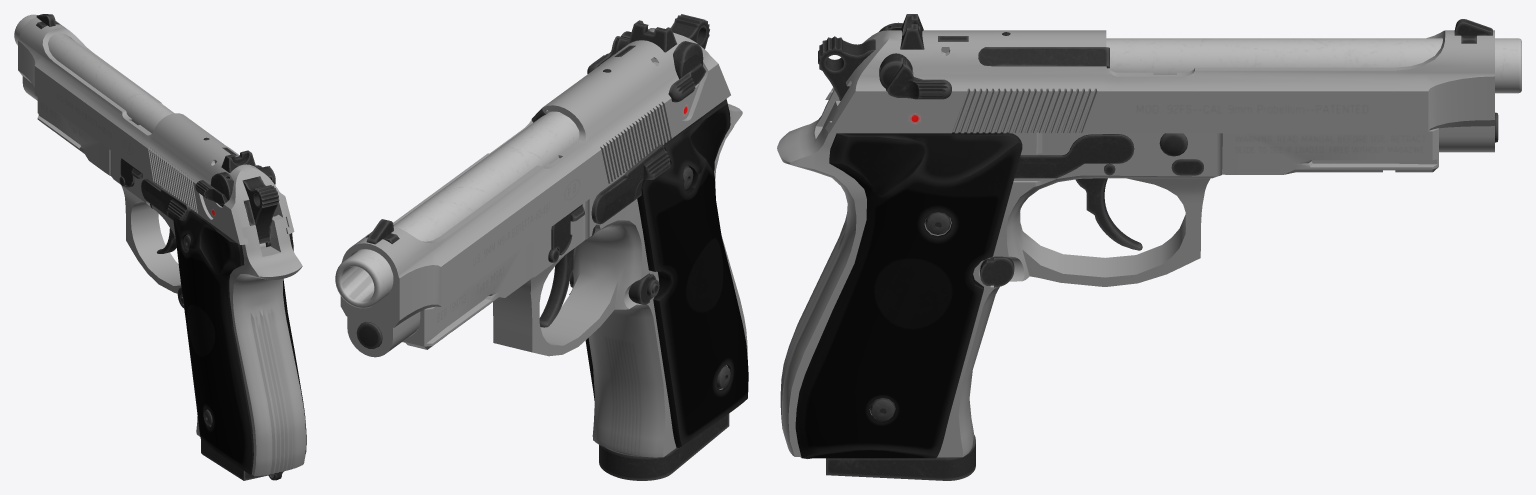
3 views of the same model, side by side, from view 1: azimuth 30°, elevation 25°; view 2: azimuth 150°, elevation 25°; view 3: azimuth 270°, elevation 25° (orthographic). The views are drawn at different scales.
Parts seen in each view (by area): view 1: body.003, receiver.003, Circle.008, Cylinder.054, Hammer.003, Cube.035, Cylinder.058, Magazine.001, Cube.031, Circle.007, Cube.036; view 2: receiver.003, body.003, Circle.008, Cylinder.054, Magazine.001, Cube.035, Cylinder.058, Plane.003, Hammer.003, Cube.031, Cube.036, Cylinder.055 (+2 smaller); view 3: receiver.003, Circle.007, body.003, Cylinder.054, Magazine.001, Cube.039, Cube.033, Hammer.003, Plane.003, Cylinder.059, Cylinder.067.
Boxes of the visible parts, x1,y1,x2,y2 form: body.003: [37, 97, 305, 476]; receiver.003: [18, 17, 294, 244]; Circle.008: [173, 210, 253, 474]; Cylinder.054: [14, 14, 173, 133]; Hammer.003: [242, 177, 279, 248]; Cube.035: [141, 178, 190, 220]; Cylinder.058: [195, 172, 233, 206]; Magazine.001: [201, 440, 292, 480]; Cube.031: [221, 150, 255, 172]; Circle.007: [283, 233, 306, 453]; Cube.036: [120, 158, 142, 187]; receiver.003: [340, 28, 730, 357]; body.003: [402, 104, 747, 457]; Circle.008: [637, 99, 748, 447]; Cylinder.054: [335, 111, 579, 308]; Magazine.001: [599, 413, 729, 480]; Cube.035: [591, 144, 670, 224]; Cylinder.058: [668, 41, 706, 102]; Plane.003: [539, 248, 574, 327]; Hammer.003: [671, 14, 709, 49]; Cube.031: [628, 20, 676, 52]; Cube.036: [551, 204, 584, 255]; Cylinder.055: [356, 321, 382, 348]; receiver.003: [825, 30, 1494, 152]; Circle.007: [795, 132, 1022, 458]; body.003: [777, 89, 1438, 457]; Cylinder.054: [1106, 38, 1521, 93]; Magazine.001: [826, 434, 975, 480]; Cube.039: [1014, 134, 1134, 178]; Cube.033: [978, 47, 1109, 68]; Hammer.003: [818, 36, 875, 100]; Plane.003: [1075, 178, 1142, 250]; Cylinder.059: [886, 59, 951, 99]; Cylinder.067: [980, 256, 1014, 287].
Bounding box in the file's own units: 65.44 × 223 × 339.
Materials: 1 (1 with a texture image).
